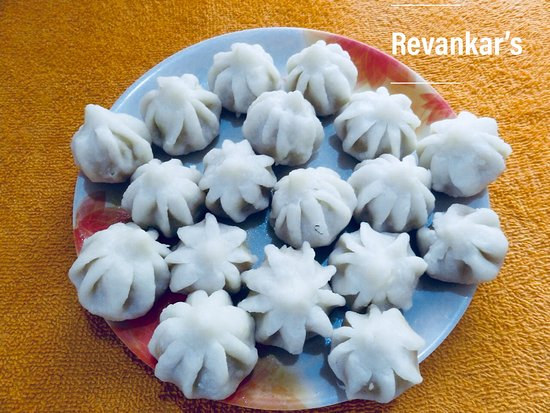modak: (149, 300, 271, 403), (245, 248, 338, 358), (409, 108, 513, 196), (331, 314, 426, 406), (76, 217, 165, 315), (63, 102, 162, 177), (246, 89, 333, 166), (336, 92, 430, 163), (353, 158, 437, 235), (427, 209, 506, 289), (194, 145, 283, 216), (272, 166, 354, 241), (283, 45, 365, 118), (141, 77, 219, 151), (176, 222, 251, 295), (205, 39, 284, 108), (130, 160, 205, 230)
